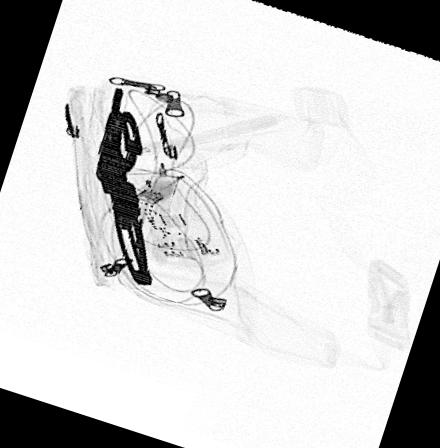HandCuffs: (90, 84, 157, 286)
